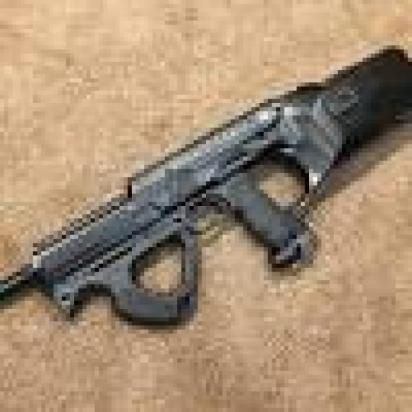Gun: (0, 42, 412, 335)
